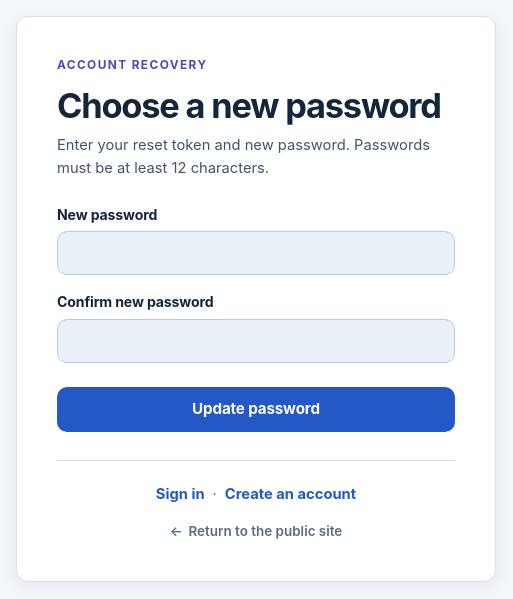
Test case: Authentication pages › submits password reset with token and new password
Expected: the heading "Choose a new password" is shown, top-left (57, 85), bottom-right (455, 126)
Type "new-valid-password-123" into the password field labelled "New password" at (256, 253), box top-left (57, 231), bottom-right (455, 275)
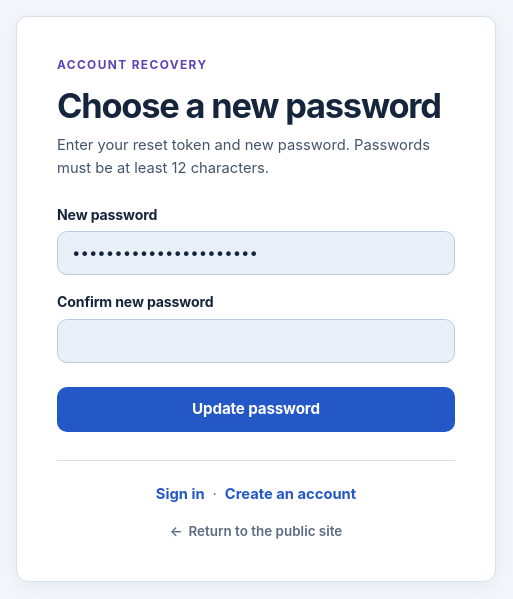
Type "new-valid-password-123" into the password field labelled "Confirm new password" at (256, 341), box top-left (57, 318), bottom-right (455, 363)
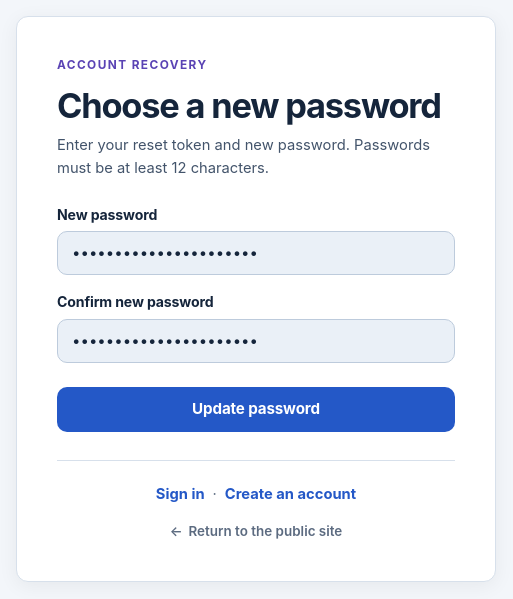
Click the button "Update password" at (256, 410), box top-left (57, 387), bottom-right (455, 432)
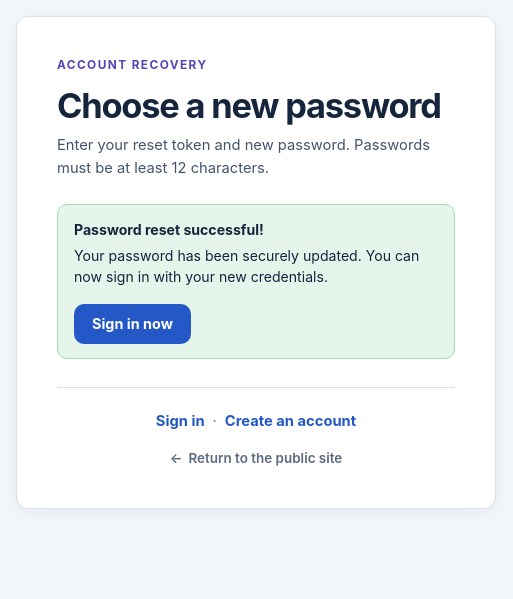
Expected: the text "Password reset successful!" is shown, top-left (74, 221), bottom-right (264, 238)
